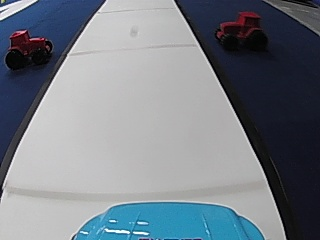tractor: (212, 9, 268, 52), (3, 26, 53, 69)
